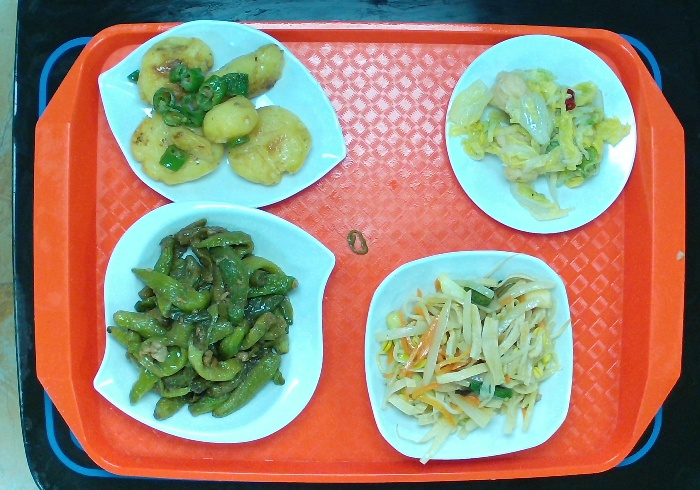RJxy-Da_Du_Pan: (96, 18, 349, 210)
RJxy-Shuang_Jiao_Pan: (91, 199, 337, 446)
RJxy-Si_Fang_Wan: (361, 247, 575, 462)
RJxy-Xiao_Yuan_Die: (442, 32, 639, 235)
